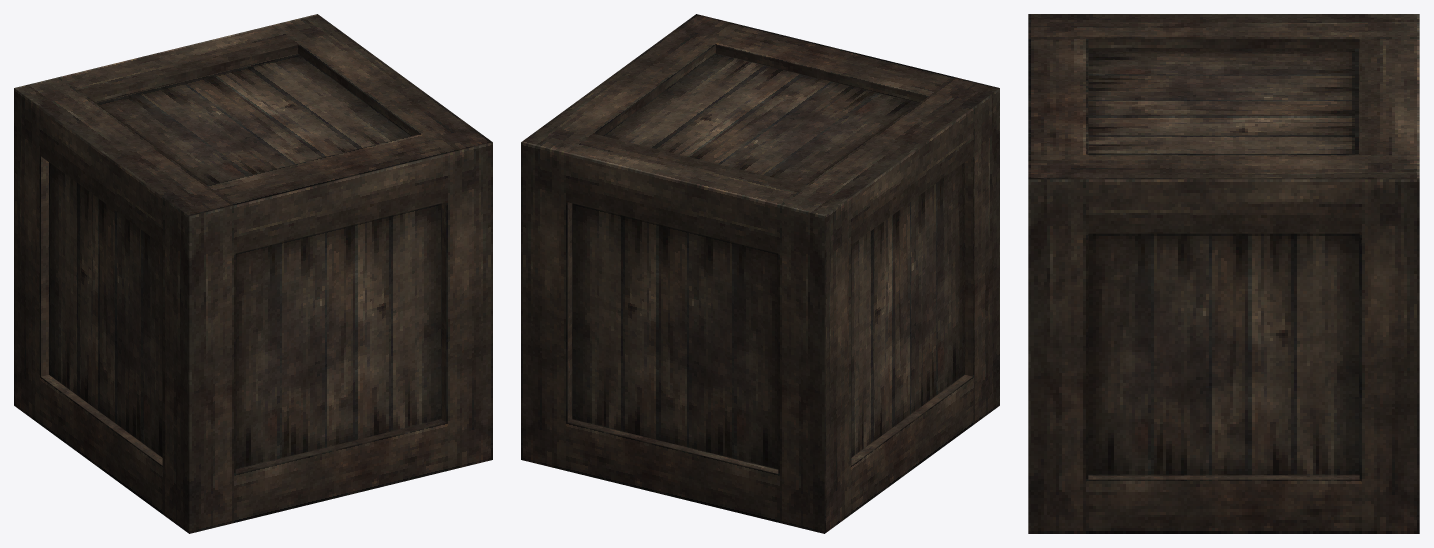
Rendered from wooden_crate_6.glb.
The picture shows the model from 3 angles, left to right: view 1: azimuth 30°, elevation 25°; view 2: azimuth 150°, elevation 25°; view 3: azimuth 270°, elevation 25°; orthographic projection. The views are drawn at different scales.
Parts seen in each view (by area): view 1: wooden_crate_6; view 2: wooden_crate_6; view 3: wooden_crate_6.
Boxes of the visible parts, x1,y1,x2,y2 form: wooden_crate_6: [14, 14, 492, 533]; wooden_crate_6: [521, 14, 999, 533]; wooden_crate_6: [1028, 14, 1419, 533].
Size of the model in its own units: 0.75 by 0.75 by 0.75.
1 material, 1 textured.
